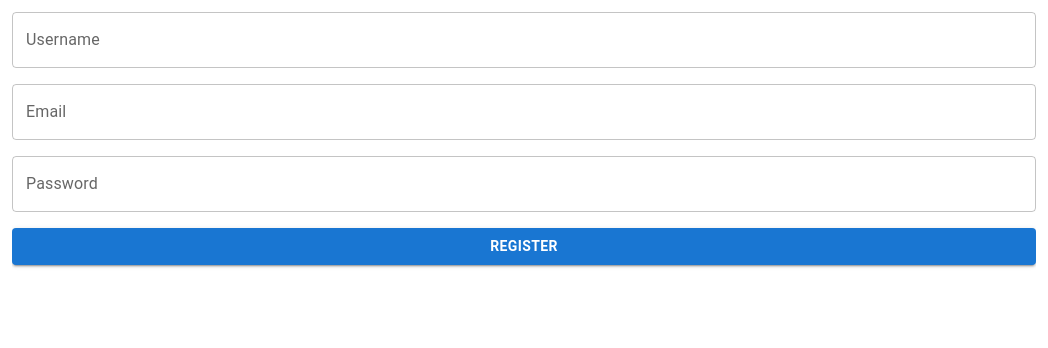
Scenario: Register Form › displays an error message if registration fails
Type "failuser" into the field labelled "Username" at (524, 40), box left=12, top=12, right=1036, bottom=68
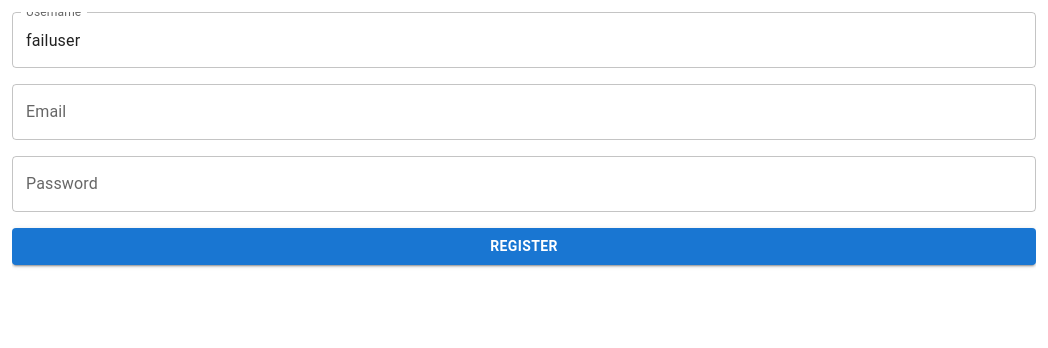
Type "johndoe@example.com" into the field labelled "Email" at (524, 112), box left=12, top=84, right=1036, bottom=140
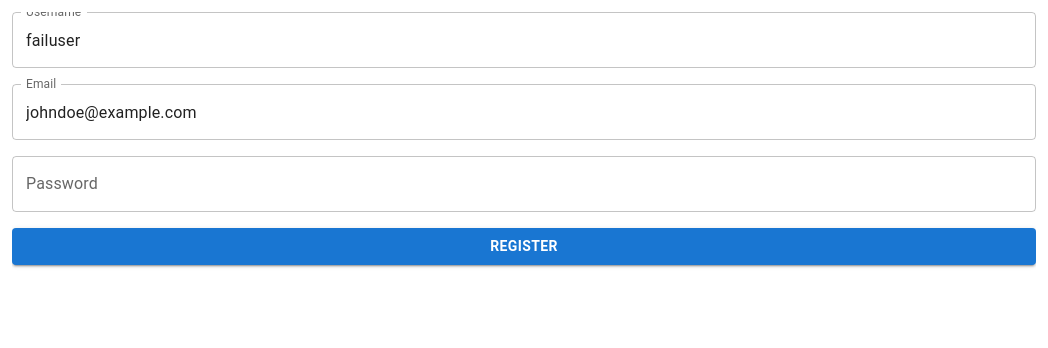
Type "12345Test" into the password field labelled "Password" at (524, 184), box left=12, top=156, right=1036, bottom=212
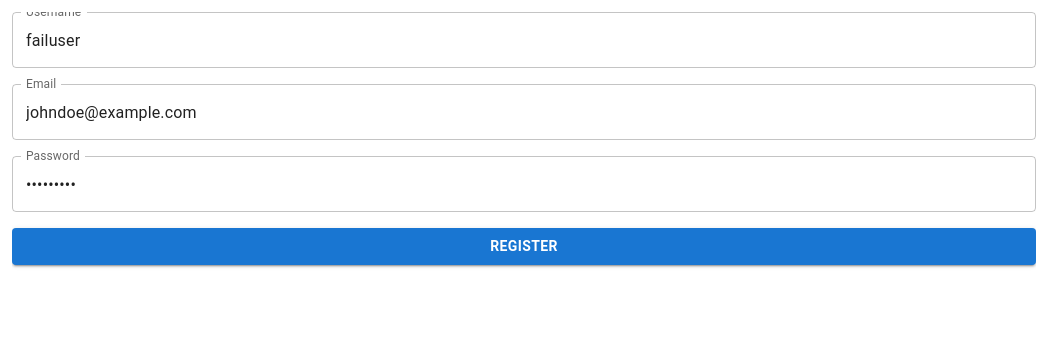
Click the button "Register" at (524, 246), box left=12, top=228, right=1036, bottom=264
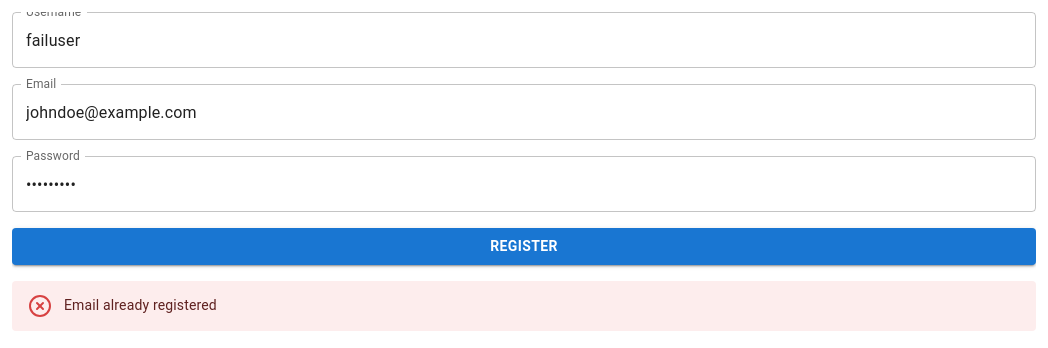
Result: the text "Email already registered" is shown at left=64, top=296, right=217, bottom=312
